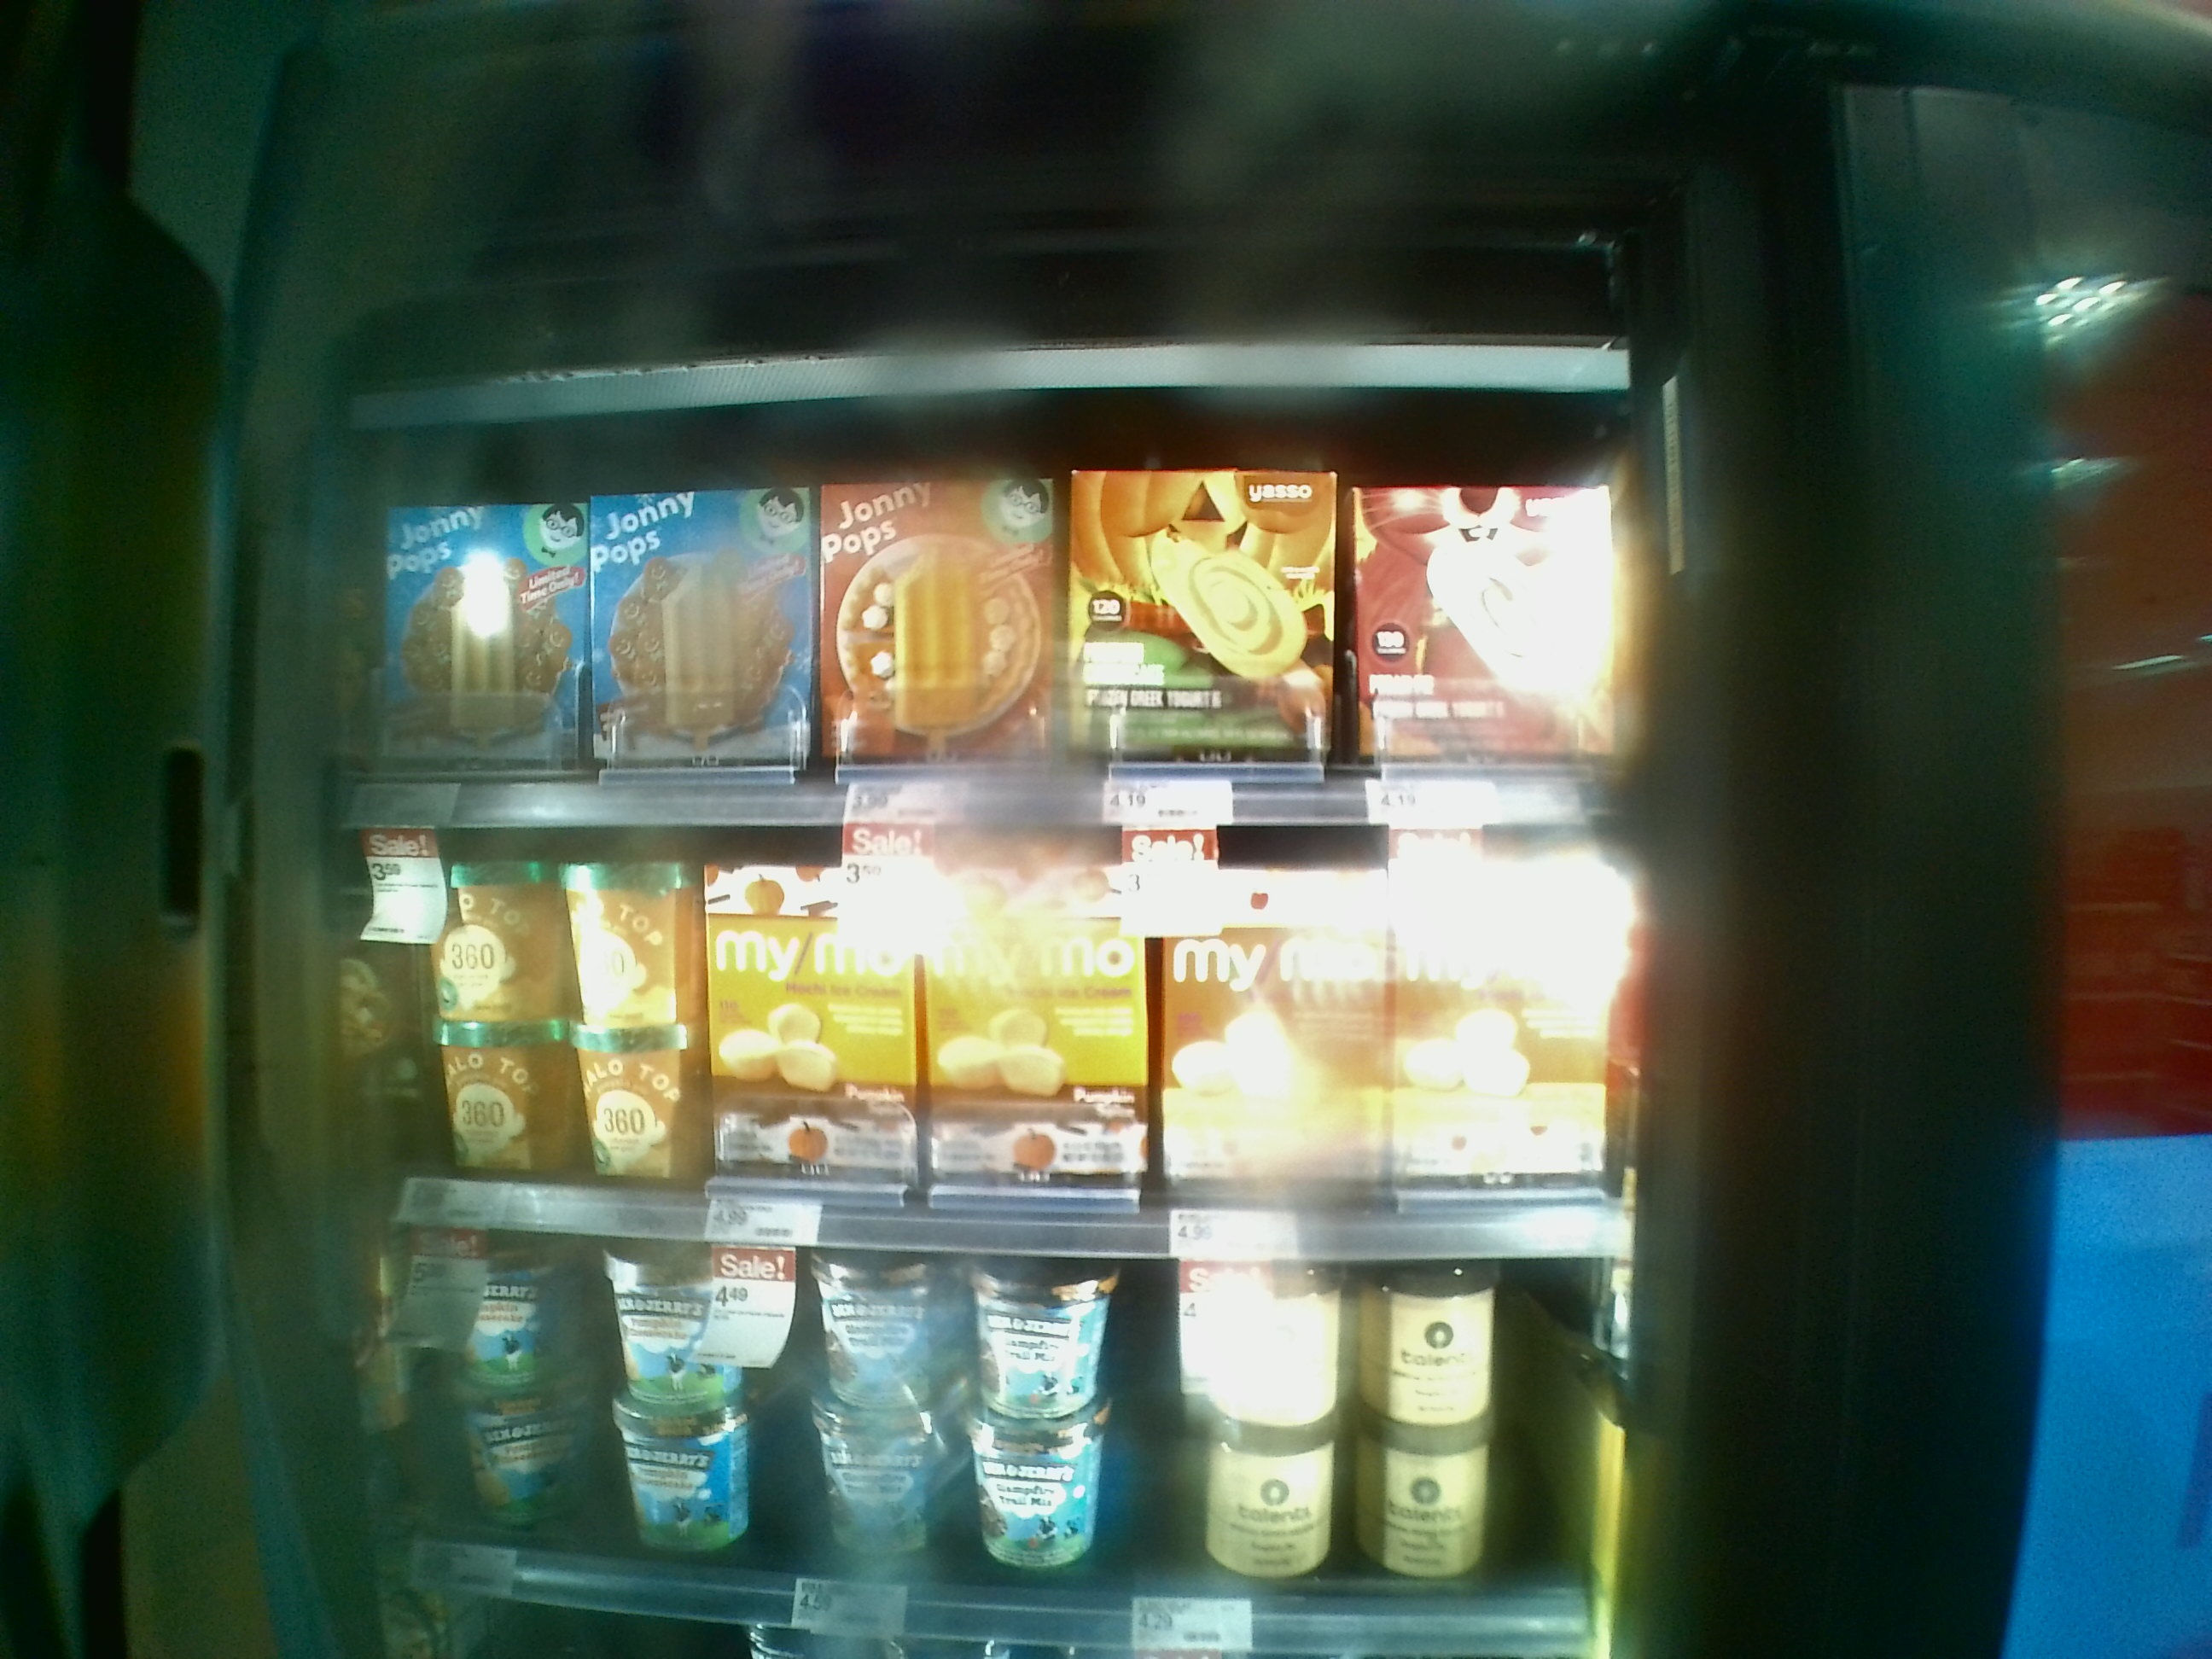shelf: (327, 807, 1609, 1255), (350, 410, 1644, 833)
